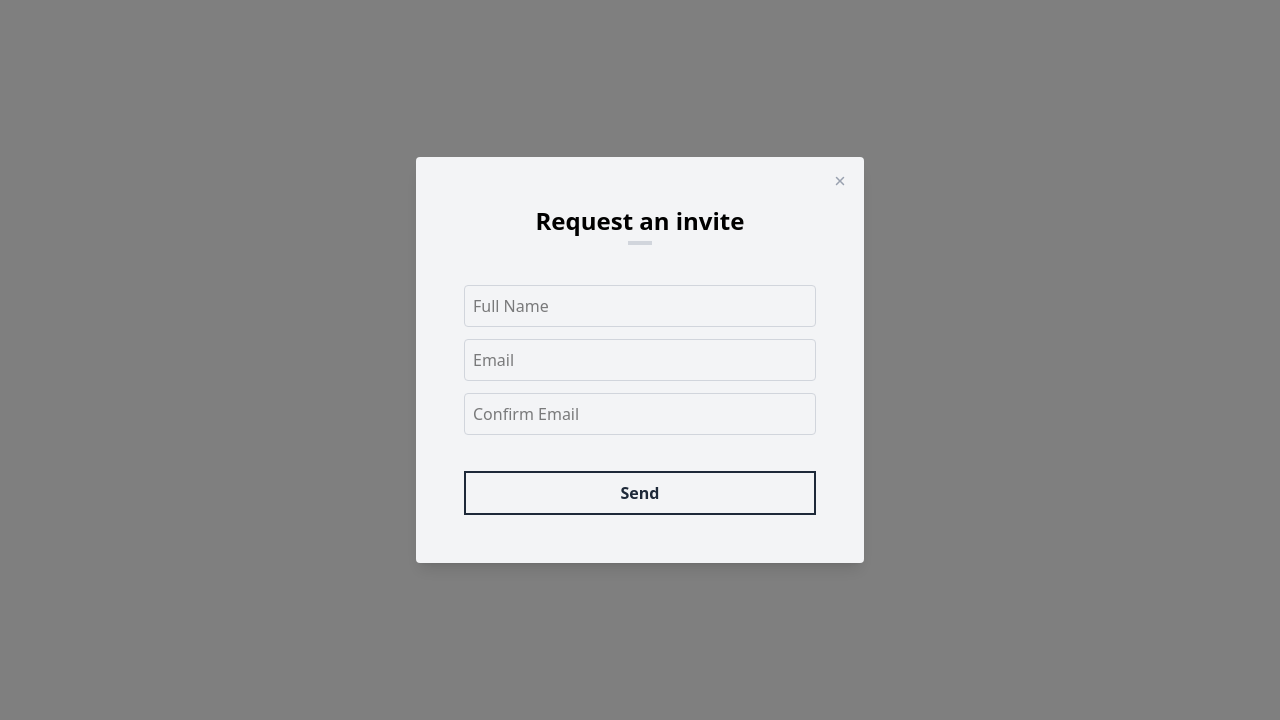
Test: InviteFormModal › shows specific errors for invalid data
This screenshot has width=1280, height=720.
Note: at least 3 chars
In the field with placeholder "Full Name": (640, 306) [464,285,816,327], type "Am"
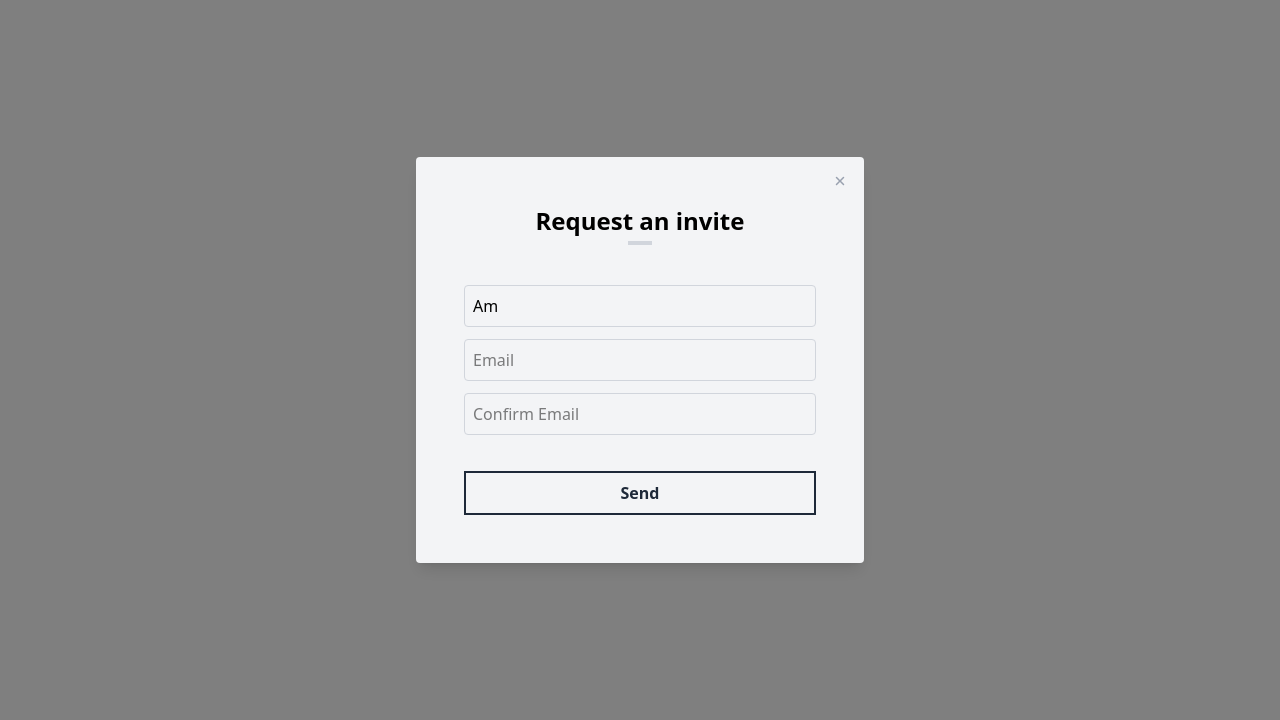
Note: wrong email format
In the field with placeholder "Email": (640, 360) [464,339,816,381], type "invalid-email"
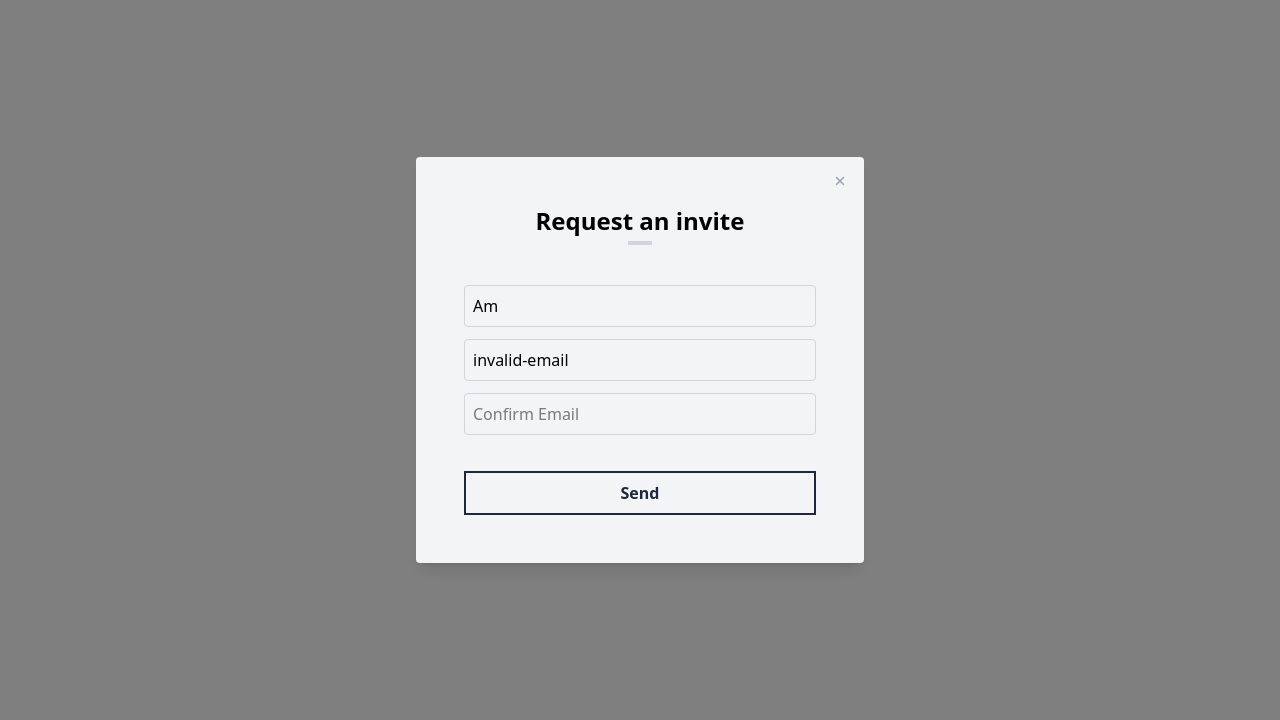
Note: diff email
In the field with placeholder "Confirm Email": (640, 414) [464,393,816,435], type "amir.azhar@airwallex.com"
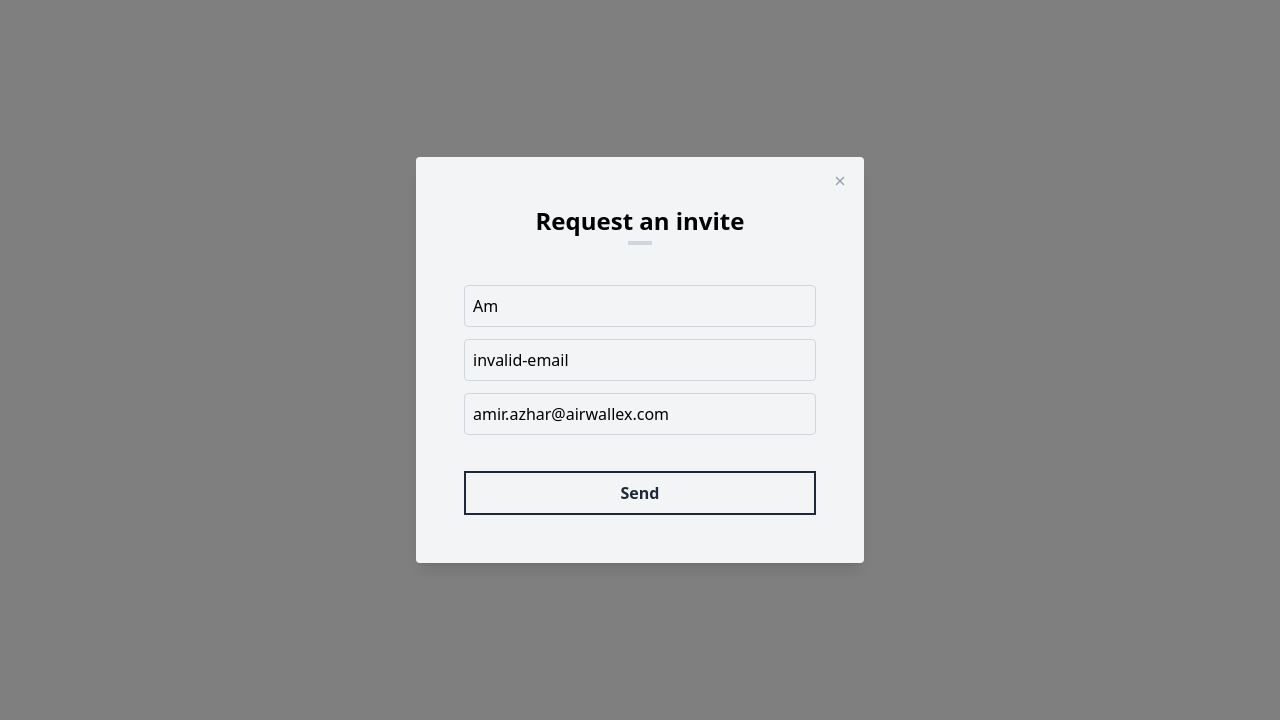
Click the button "Send": (640, 493) [464,471,816,515]
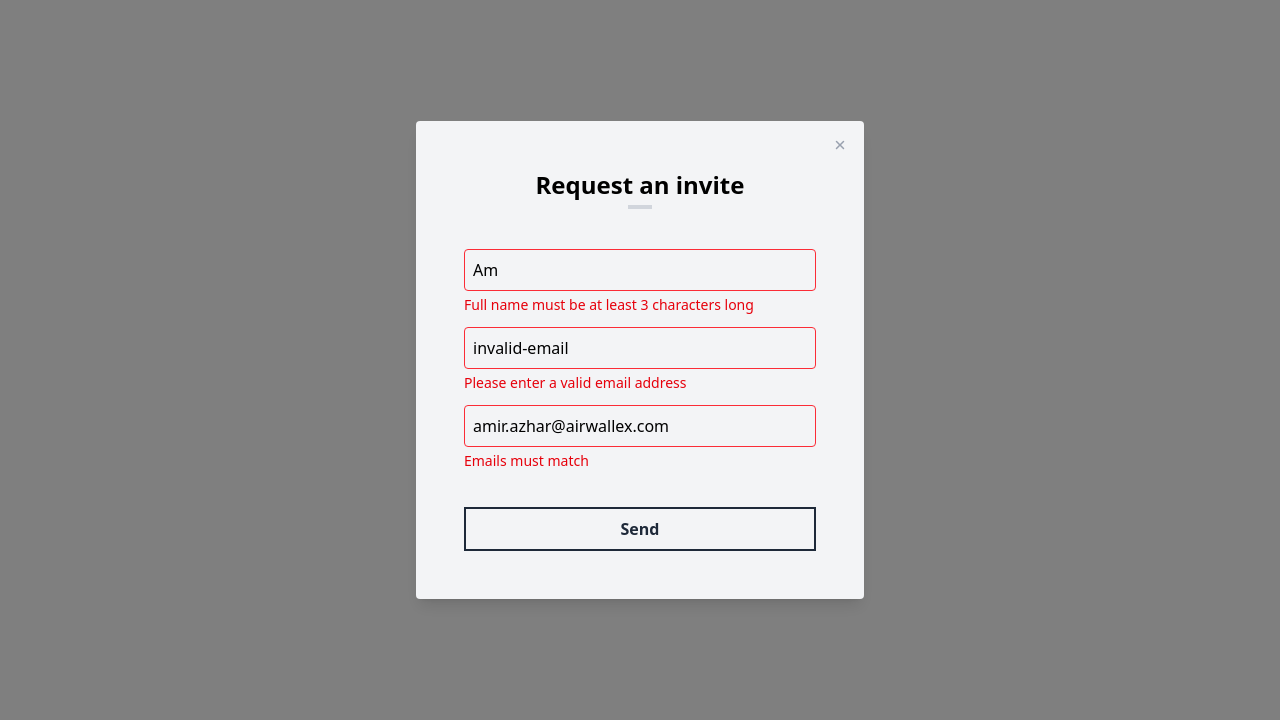
expect the text "Full name must be at least 3 characters long" is shown: met, box [464,295,754,314]
expect the text "Please enter a valid email address" is shown: met, box [464,373,686,392]
expect the text "Emails must match" is shown: met, box [464,451,589,470]
